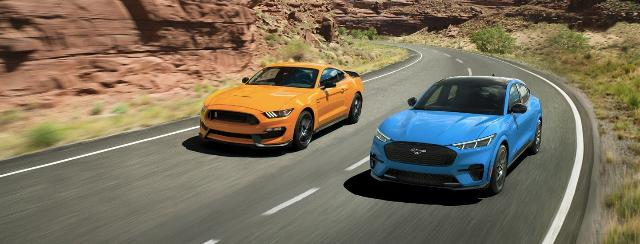ford: (370, 74, 542, 194), (200, 63, 364, 151)
